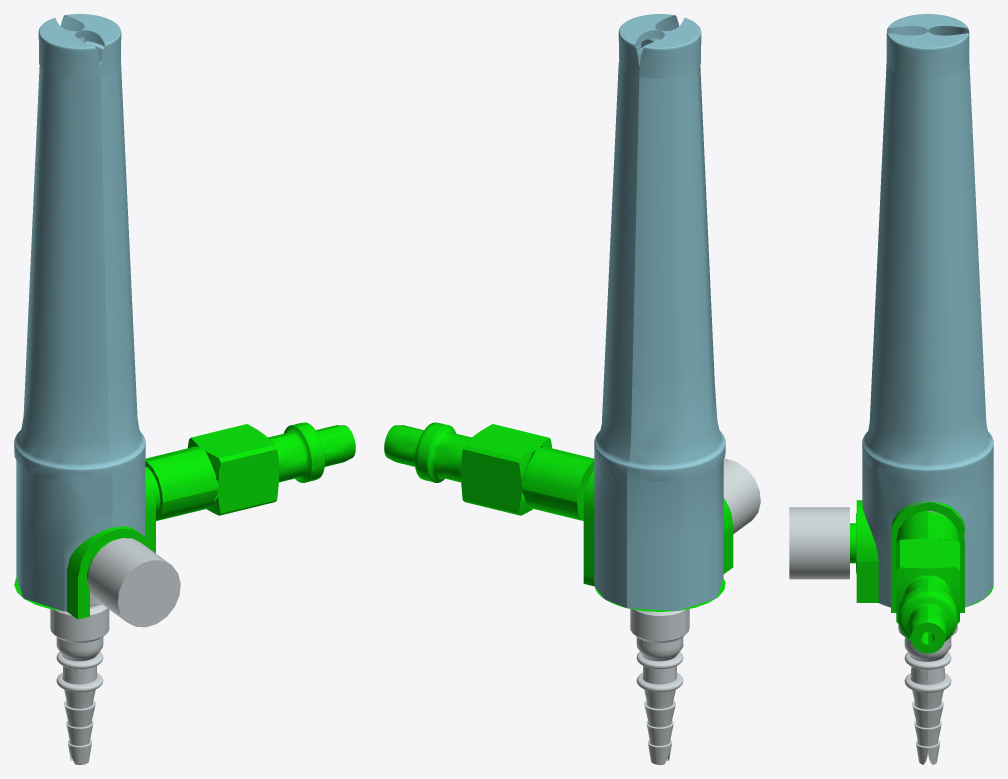
The model's file is OxygenFlowMeter.fbx.
The picture shows the model from 3 angles, left to right: view 1: azimuth 30°, elevation 25°; view 2: azimuth 150°, elevation 25°; view 3: azimuth 270°, elevation 25°; orthographic projection.
Parts seen in each view (by area): view 1: nurbsToPoly729, nurbsToPoly730, nurbsToPoly723, nurbsToPoly725, nurbsToPoly731; view 2: nurbsToPoly729, nurbsToPoly730, nurbsToPoly725, nurbsToPoly723, nurbsToPoly731; view 3: nurbsToPoly729, nurbsToPoly730, nurbsToPoly723, nurbsToPoly725, nurbsToPoly731.
Part boxes in pixels (box(x1,y1,x2,y2)): nurbsToPoly729: box(14, 14, 145, 611); nurbsToPoly730: box(130, 422, 355, 553); nurbsToPoly723: box(87, 538, 180, 627); nurbsToPoly725: box(50, 526, 129, 764); nurbsToPoly731: box(67, 526, 151, 619); nurbsToPoly729: box(594, 14, 725, 610); nurbsToPoly730: box(384, 422, 594, 586); nurbsToPoly725: box(630, 609, 689, 764); nurbsToPoly723: box(723, 458, 760, 533); nurbsToPoly731: box(723, 498, 733, 573); nurbsToPoly729: box(862, 14, 993, 607); nurbsToPoly730: box(891, 501, 965, 653); nurbsToPoly723: box(789, 507, 849, 579); nurbsToPoly725: box(891, 503, 964, 764); nurbsToPoly731: box(850, 500, 878, 602).
Size of the model in its own units: 8.83 by 19.01 by 4.82.
